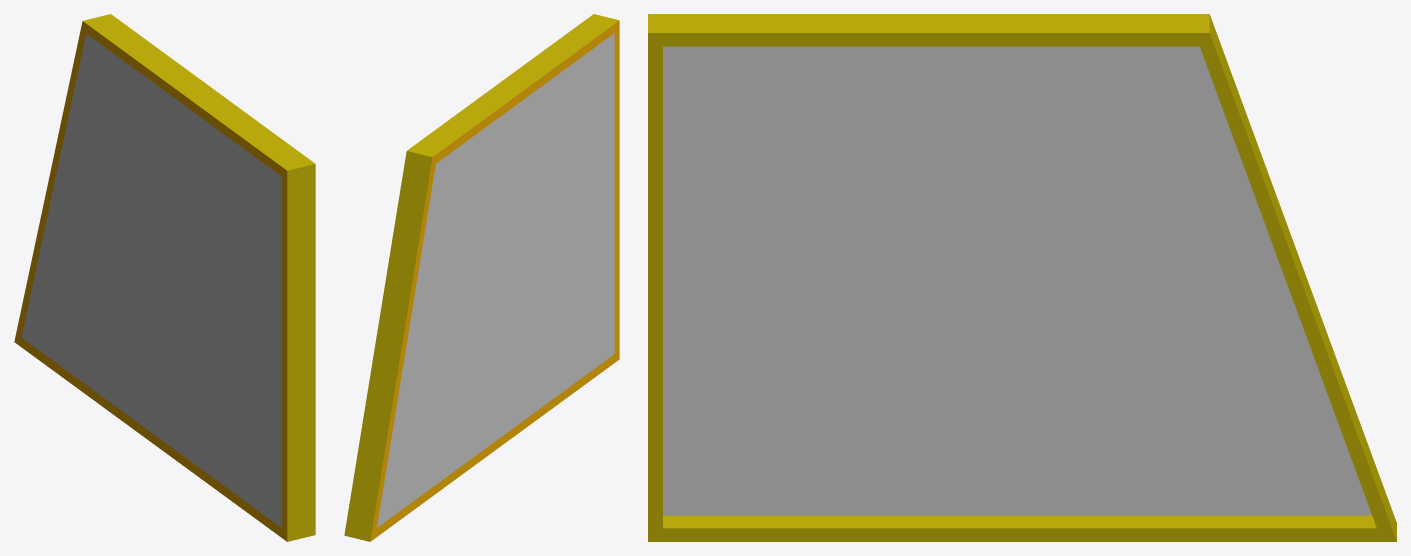
The model's file is window_slanted_interface_3x1x3.dae.
3 views of the same model, side by side, from view 1: azimuth 30°, elevation 25°; view 2: azimuth 150°, elevation 25°; view 3: azimuth 270°, elevation 25° (orthographic). The views are drawn at different scales.
Visible parts, largest first — view 1: Cube; view 2: Cube; view 3: Cube.
Boxes of the visible parts, box(x1,y1,x2,y2) form: Cube: box(14, 14, 315, 541); Cube: box(344, 14, 619, 541); Cube: box(648, 14, 1396, 541).
Bounding box in the file's own units: 0.06 × 1 × 0.75.
